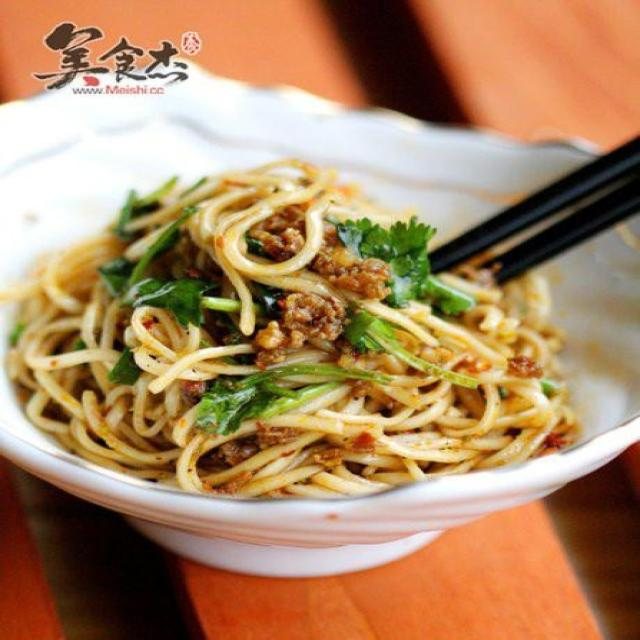面条主食: (7, 133, 613, 546)
